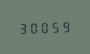five: (51, 19, 61, 33)
nine: (62, 19, 72, 33)
three: (18, 20, 28, 34)
zero: (29, 20, 39, 34), (40, 20, 50, 33)
